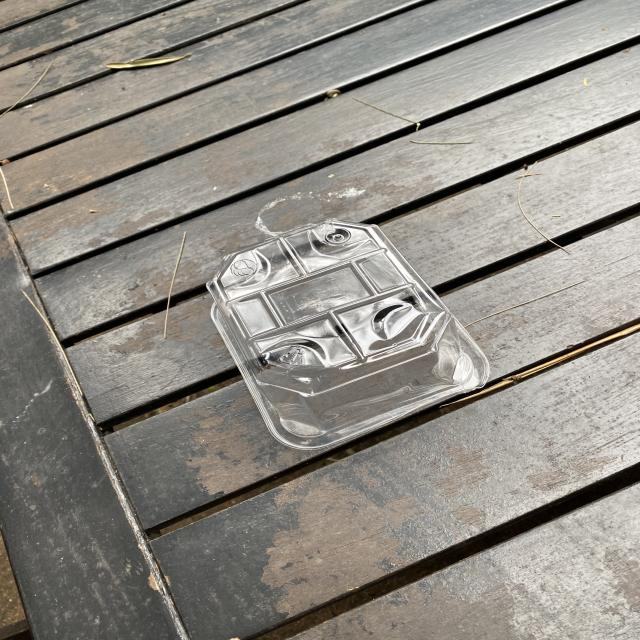cup: (207, 218, 490, 449)
